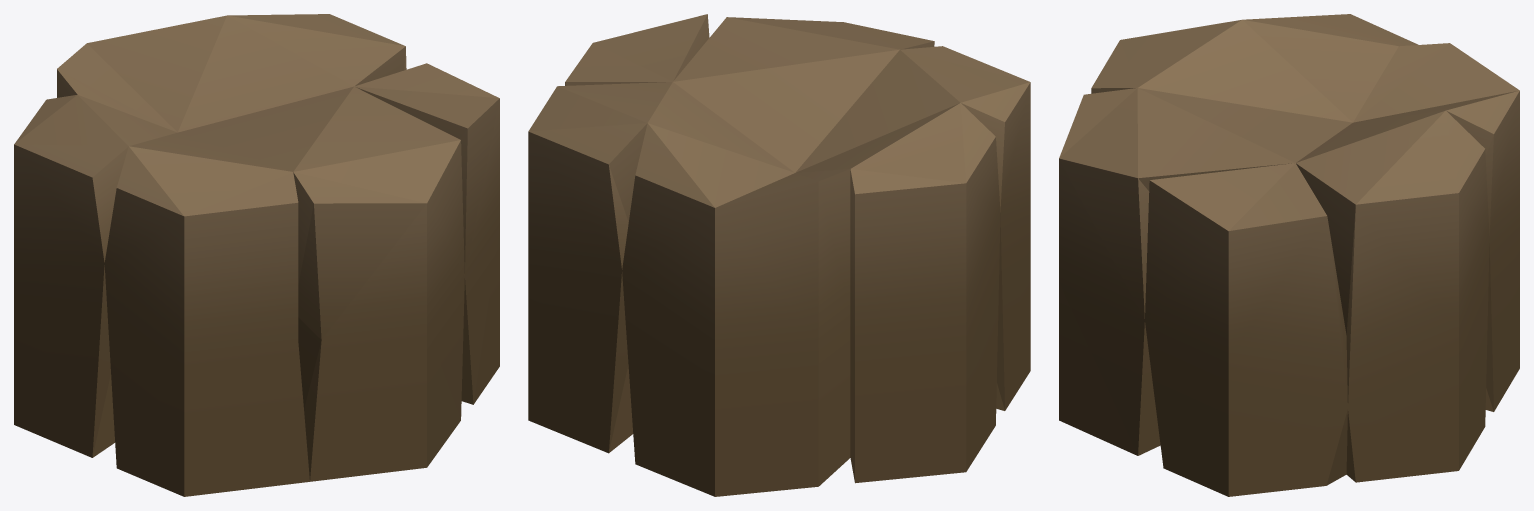
The model's file is ChoppingBlock.fbx.
3 renders of one model, left to right at view 1: azimuth 30°, elevation 25°; view 2: azimuth 150°, elevation 25°; view 3: azimuth 270°, elevation 25°, orthographic. The views are drawn at different scales.
Visible parts, largest first — view 1: ChoppingBlock; view 2: ChoppingBlock; view 3: ChoppingBlock.
Part boxes in pixels (x1,y1,x2,y2): ChoppingBlock: (14, 14, 499, 496); ChoppingBlock: (528, 14, 1030, 496); ChoppingBlock: (1059, 14, 1519, 496).
Bounding box in the file's own units: 1 × 0.6995 × 0.95.
1 material, 1 textured.
